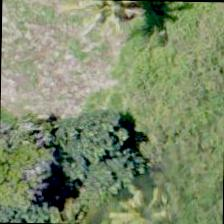Kelapa_Sawit: (63, 0, 155, 54), (98, 174, 190, 223)
